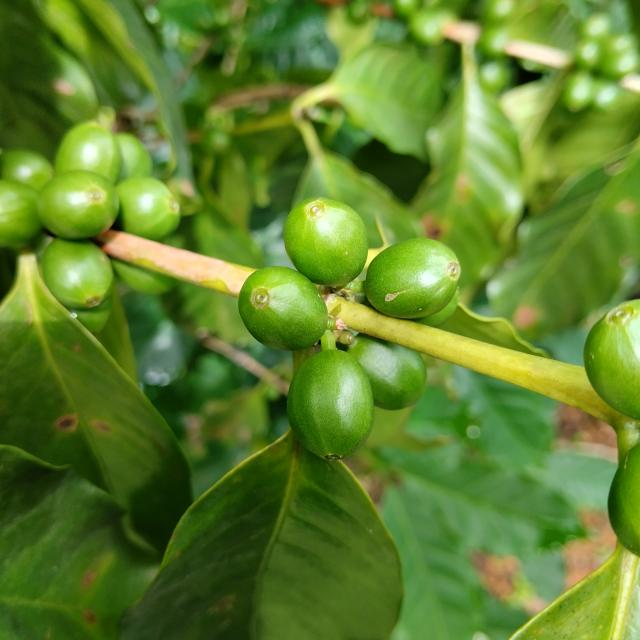green: (287, 349, 374, 461), (365, 238, 461, 319), (238, 266, 328, 351), (284, 197, 368, 286), (585, 299, 640, 421), (348, 334, 427, 410), (36, 170, 119, 239), (41, 238, 113, 308), (116, 176, 180, 240), (609, 444, 640, 556)
